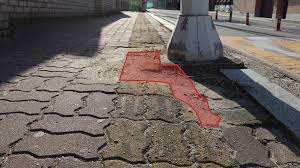guide_blocks: (112, 80, 225, 168), (131, 17, 163, 50)
